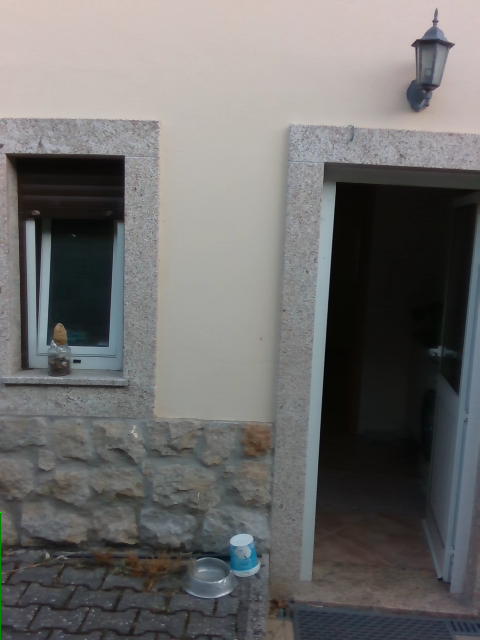open: (295, 165, 479, 590)
